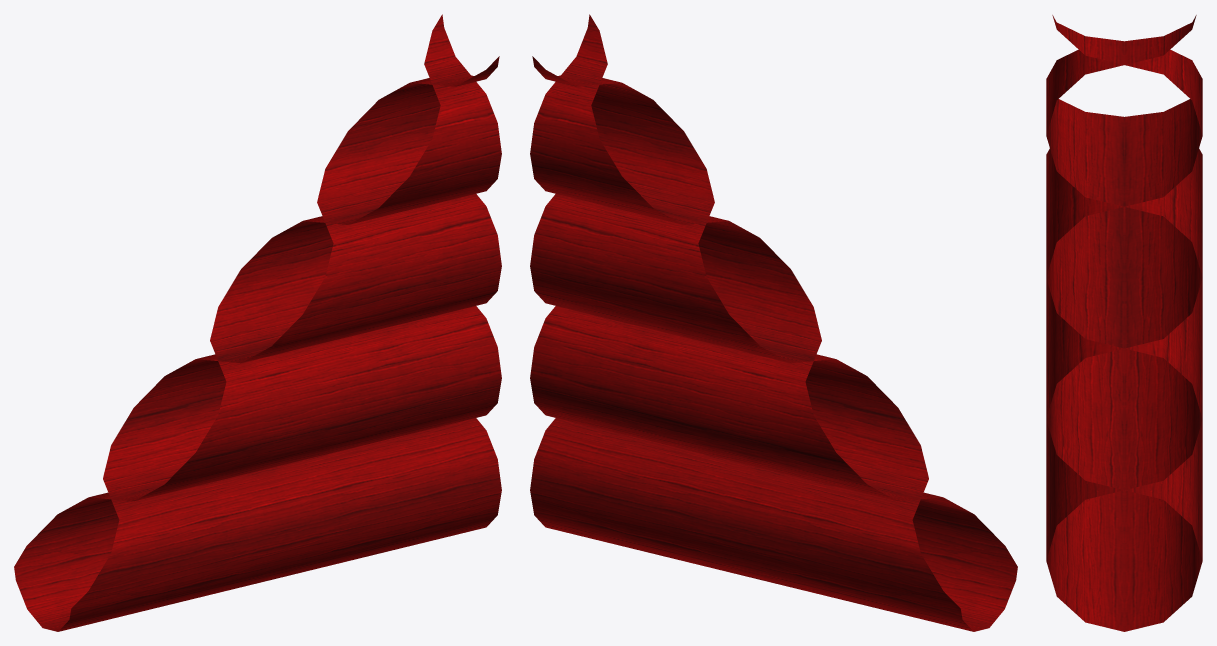
Rendered from WallLogTriangle01.fbx.
The picture shows the model from 3 angles, left to right: view 1: azimuth 30°, elevation 25°; view 2: azimuth 150°, elevation 25°; view 3: azimuth 270°, elevation 25°; orthographic projection. The views are drawn at different scales.
Visible parts, largest first — view 1: WallLogTriangle01_LOD0; view 2: WallLogTriangle01_LOD0; view 3: WallLogTriangle01_LOD0.
Part boxes in pixels (x1,y1,x2,y2): WallLogTriangle01_LOD0: (14, 14, 501, 631); WallLogTriangle01_LOD0: (530, 14, 1017, 631); WallLogTriangle01_LOD0: (1046, 15, 1202, 631).
Size of what is drawn, in the model's own units: 1 by 1.09 by 0.25.
